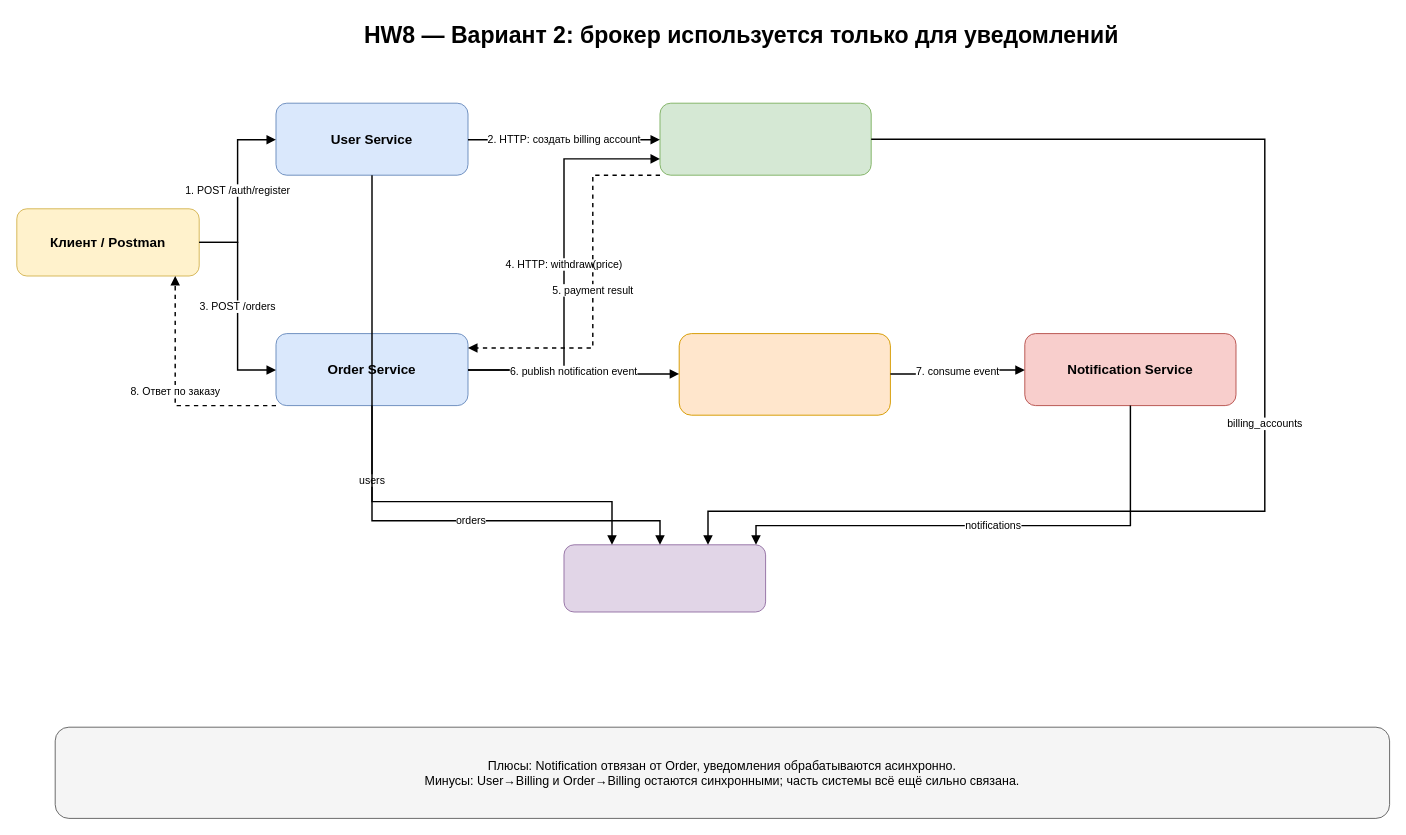
This 1406x835 diagram has some shape labels left out. Each missing label, with the box of its shape:
Billing Service: (659, 102, 871, 175)
Kafka notification-events: (678, 333, 890, 415)
PostgreSQL: (563, 544, 766, 612)
